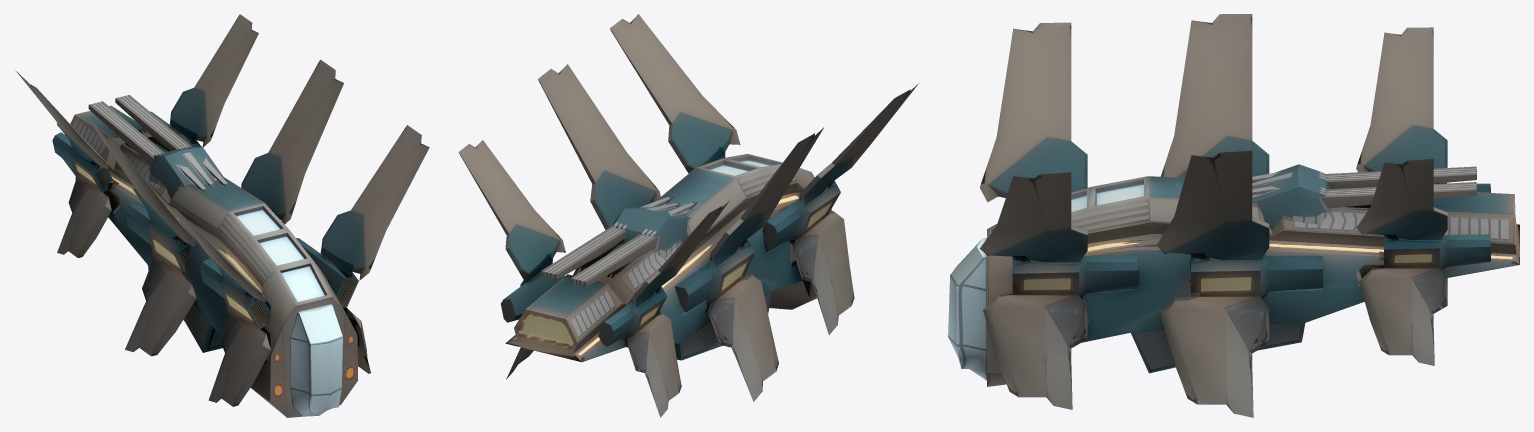
Rendered from vehicle_spacecraft_ship_phoenix_001_gr_mesh.FBX.
The picture shows the model from 3 angles, left to right: view 1: azimuth 30°, elevation 25°; view 2: azimuth 150°, elevation 25°; view 3: azimuth 270°, elevation 25°; orthographic projection. The views are drawn at different scales.
Parts seen in each view (by area): view 1: vehicle_spacecraft_ship_phoenix_001_gr; view 2: vehicle_spacecraft_ship_phoenix_001_gr; view 3: vehicle_spacecraft_ship_phoenix_001_gr.
Boxes of the visible parts, x1,y1,x2,y2 form: vehicle_spacecraft_ship_phoenix_001_gr: (15,14,429,417); vehicle_spacecraft_ship_phoenix_001_gr: (458,14,918,417); vehicle_spacecraft_ship_phoenix_001_gr: (948,14,1519,417).
Size of the model in its own units: 4.89 by 4.4 by 7.81.
